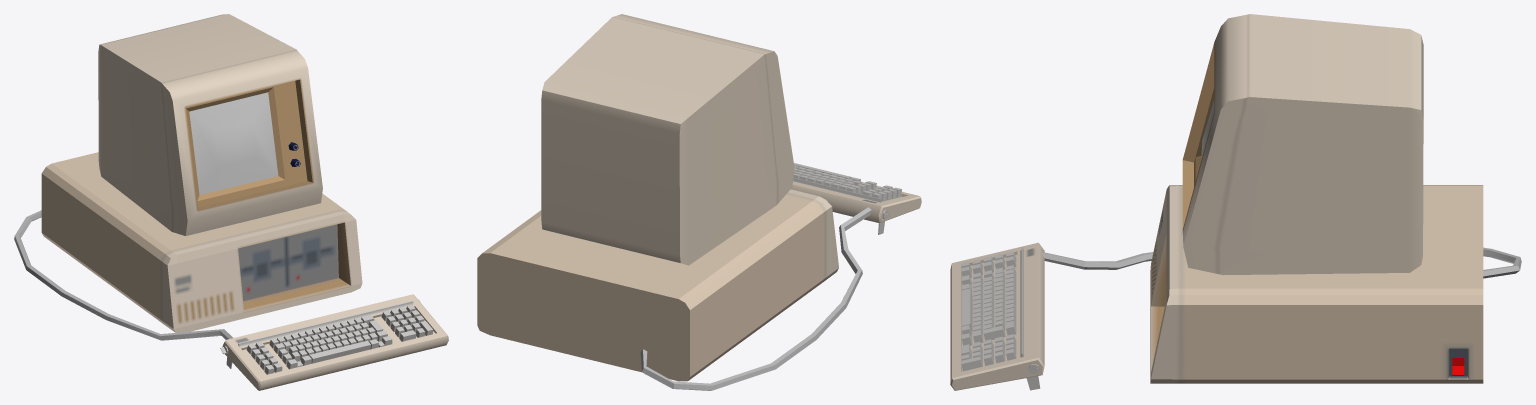
File: LR_ibm.fbx
3 views of the same model, side by side, from view 1: azimuth 30°, elevation 25°; view 2: azimuth 150°, elevation 25°; view 3: azimuth 270°, elevation 25° (orthographic). The views are drawn at different scales.
Parts seen in each view (by area): view 1: LR_T_case_1, LR_T_computer_1, LR_T_screen_1, LR_T_keyboardBase_1, LR_L_cable_1, LR_T_topRidge_1, LR_T_key_1; view 2: LR_T_case_1, LR_T_computer_1, LR_L_cable_1, LR_T_keyboardBase_1; view 3: LR_T_case_1, LR_T_computer_1, LR_T_keyboardBase_1, LR_L_cable_1.
Part boxes in pixels (left/top/right/bottom): LR_T_case_1: left=98, top=14, right=322, bottom=235; LR_T_computer_1: left=41, top=152, right=362, bottom=332; LR_T_screen_1: left=189, top=92, right=278, bottom=194; LR_T_keyboardBase_1: left=222, top=294, right=448, bottom=390; LR_L_cable_1: left=14, top=210, right=233, bottom=340; LR_T_topRidge_1: left=238, top=300, right=413, bottom=346; LR_T_key_1: left=309, top=340, right=370, bottom=363; LR_T_case_1: left=541, top=14, right=794, bottom=265; LR_T_computer_1: left=477, top=189, right=838, bottom=381; LR_L_cable_1: left=640, top=207, right=871, bottom=390; LR_T_keyboardBase_1: left=791, top=181, right=921, bottom=223; LR_T_case_1: left=1182, top=14, right=1423, bottom=275; LR_T_computer_1: left=1150, top=185, right=1483, bottom=383; LR_T_keyboardBase_1: left=950, top=242, right=1044, bottom=390; LR_L_cable_1: left=1041, top=247, right=1521, bottom=278.
Size of the model in its own units: 3.4 by 2.88 by 5.43.
